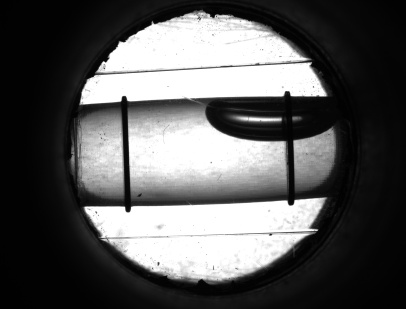line: (116, 120, 134, 193), (281, 148, 301, 187)
